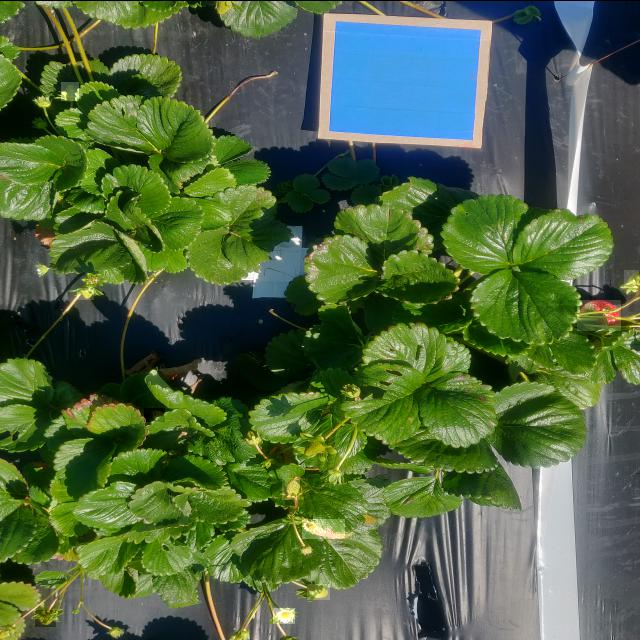Flower: (273, 606, 296, 623)
Green Strawberry: (302, 517, 346, 538), (301, 439, 329, 456), (282, 476, 301, 499), (308, 582, 332, 599), (35, 608, 57, 626), (61, 80, 80, 100), (144, 406, 167, 421), (358, 512, 380, 526), (624, 268, 639, 288), (77, 286, 95, 299)
Red Strawberry: (577, 298, 622, 330)
